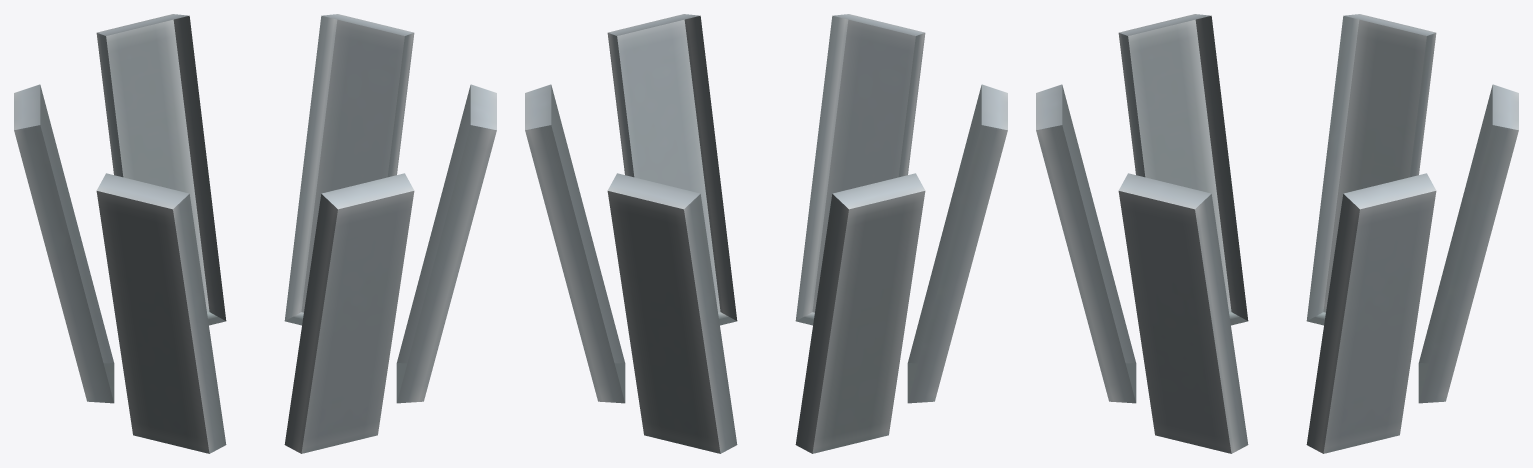
File: dengzhao.FBX
The picture shows the model from 3 angles, left to right: view 1: azimuth 30°, elevation 25°; view 2: azimuth 150°, elevation 25°; view 3: azimuth 270°, elevation 25°; orthographic projection.
Parts seen in each view (by area): view 1: dengzhao; view 2: dengzhao; view 3: dengzhao.
Part boxes in pixels (x1,y1,x2,y2): dengzhao: [14, 14, 496, 453]; dengzhao: [525, 14, 1007, 453]; dengzhao: [1036, 14, 1518, 453].
Size of the model in its own units: 740 by 492 by 773.
